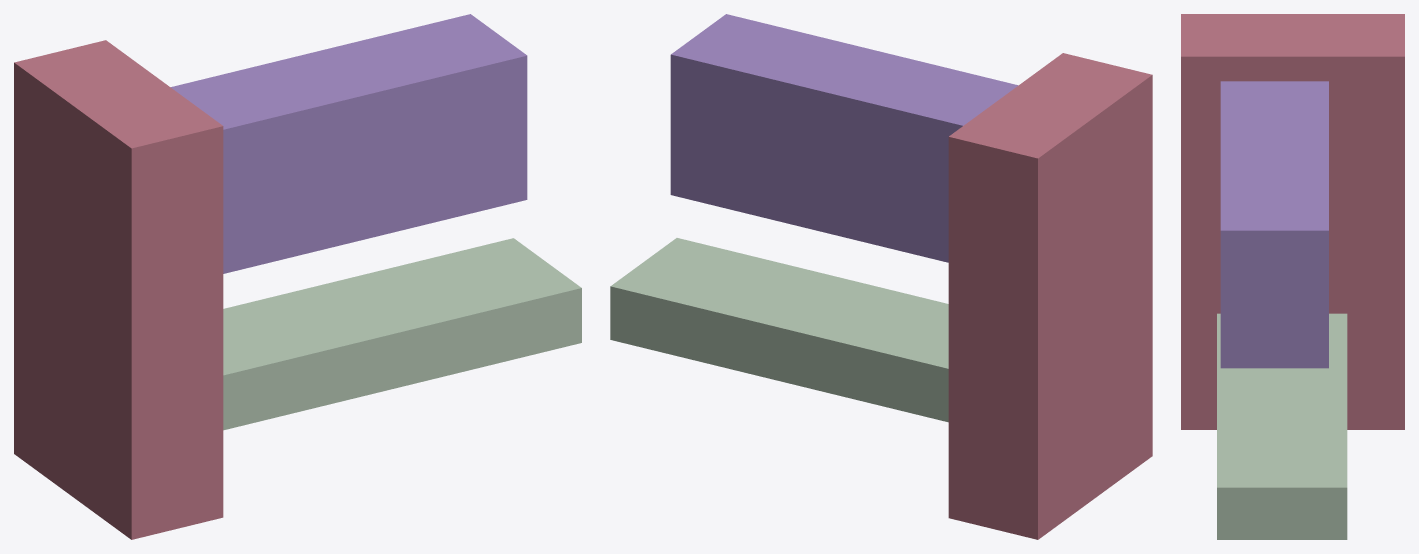
The model's file is 199516_pred.glb.
The picture shows the model from 3 angles, left to right: view 1: azimuth 30°, elevation 25°; view 2: azimuth 150°, elevation 25°; view 3: azimuth 270°, elevation 25°; orthographic projection. The views are drawn at different scales.
Visible parts, largest first — view 1: world; view 2: world; view 3: world.
Part boxes in pixels (bbox=[...]): world: bbox=[14, 14, 581, 539]; world: bbox=[610, 14, 1152, 539]; world: bbox=[1181, 14, 1404, 539].
Bounding box in the file's own units: 7.15 × 5.7 × 3.1.
